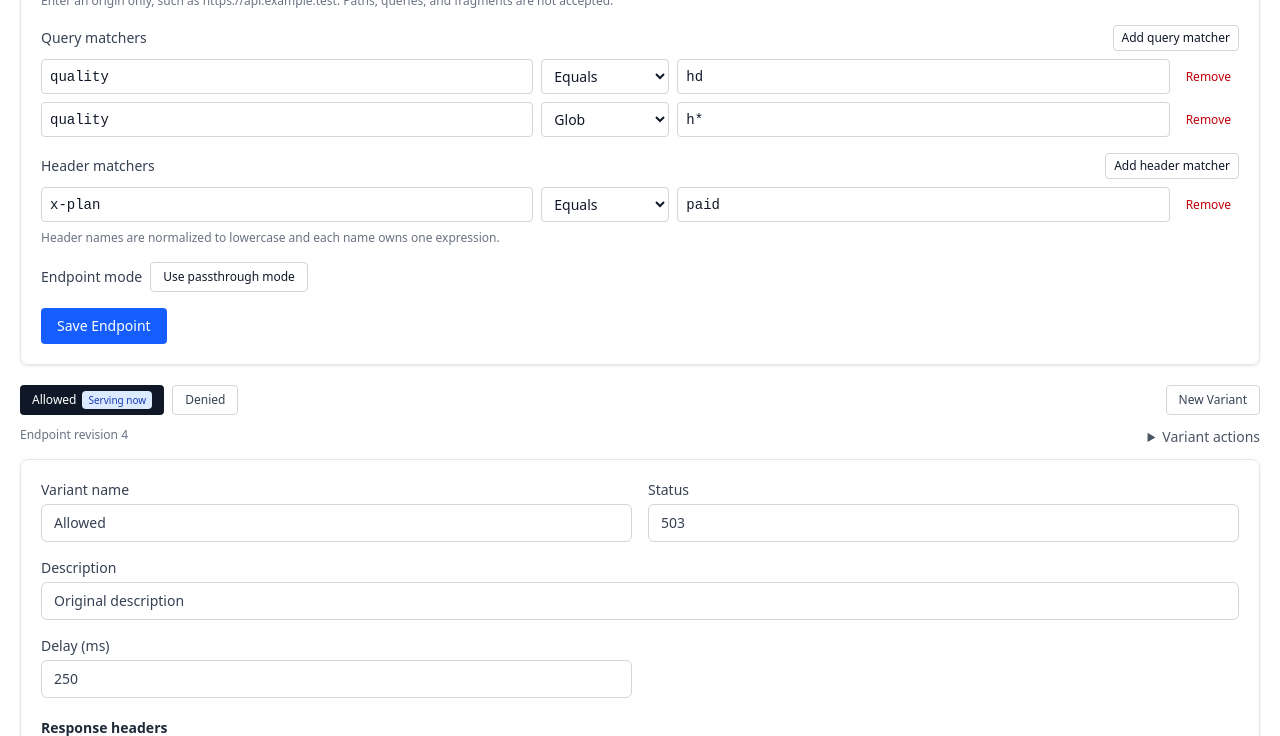
Test: EndpointEditor › keeps a committed Variant create closed and retries only its failed canonical reload
(page scrolled)
Click the button "New Variant" at (1213, 400), box [1166,385,1260,415]
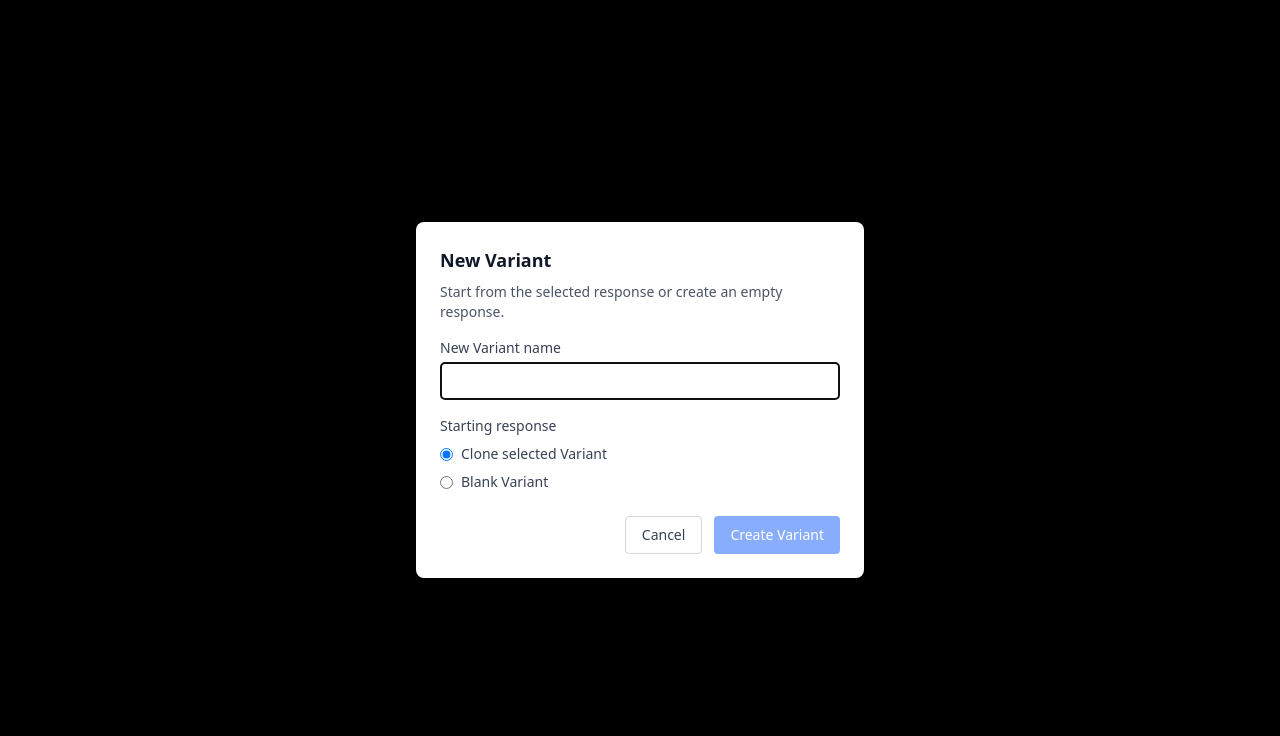
Type "Created" into the field labelled "New Variant name" at (640, 381), box [440,362,840,400]
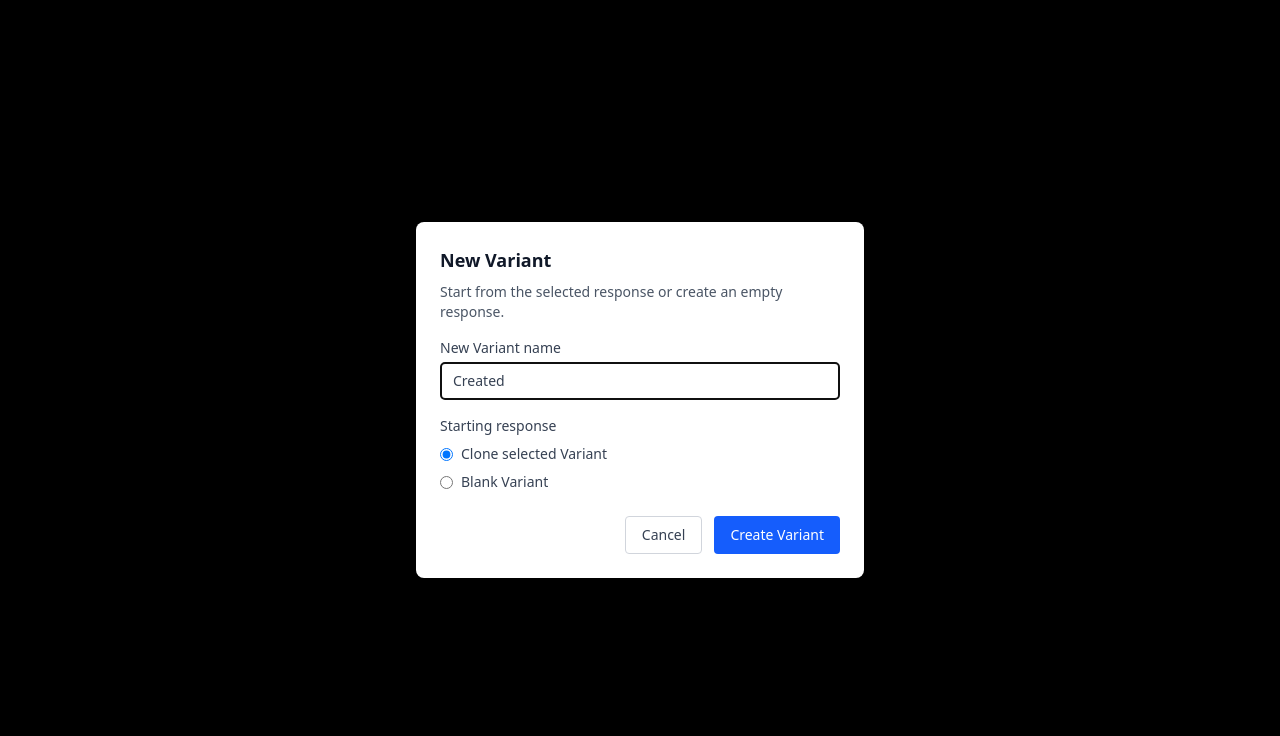
Click the button "Create Variant" at (777, 535), box [714,516,840,554]
(page scrolled)
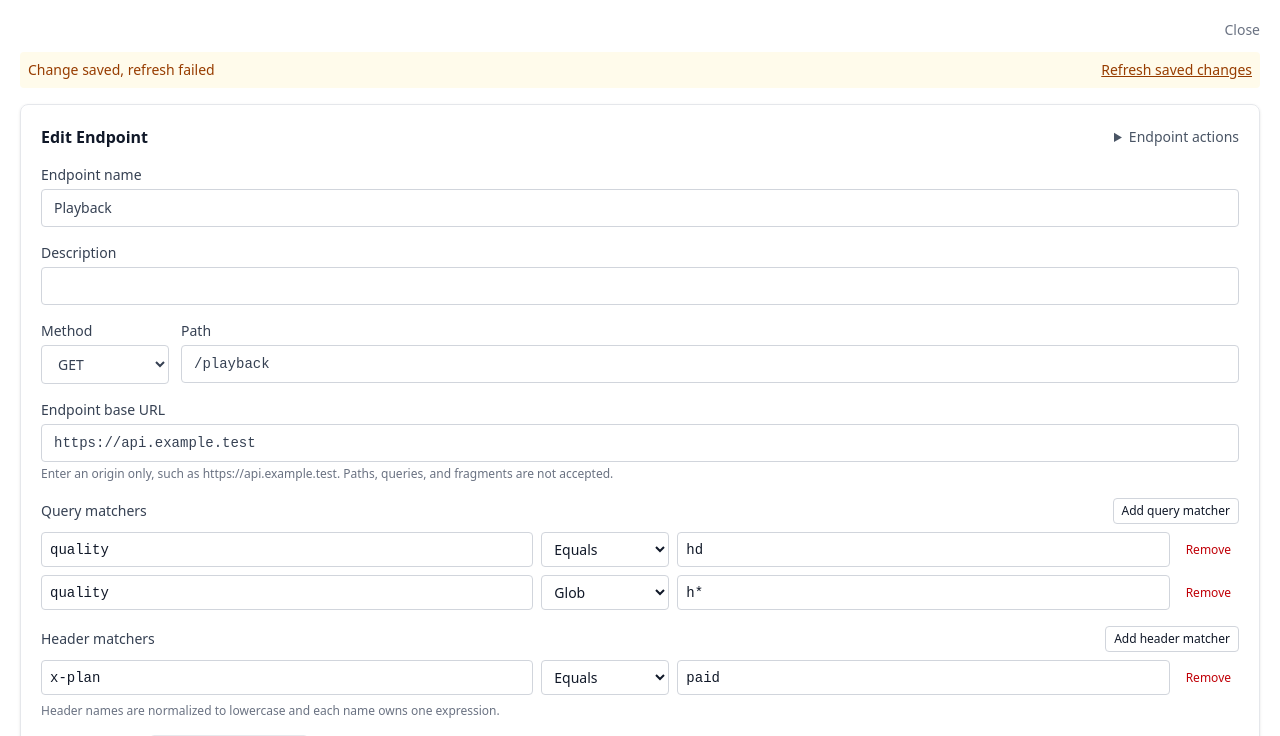
Expected: the text "Change saved, refresh failed" is shown, [28,60,215,80]
Expected: the button "New Variant" is gone
Expected: the button "Close" is enabled, [1224,20,1260,40]
Click the button "Refresh saved changes" at (1177, 70), box [1101,60,1252,80]
(page scrolled)
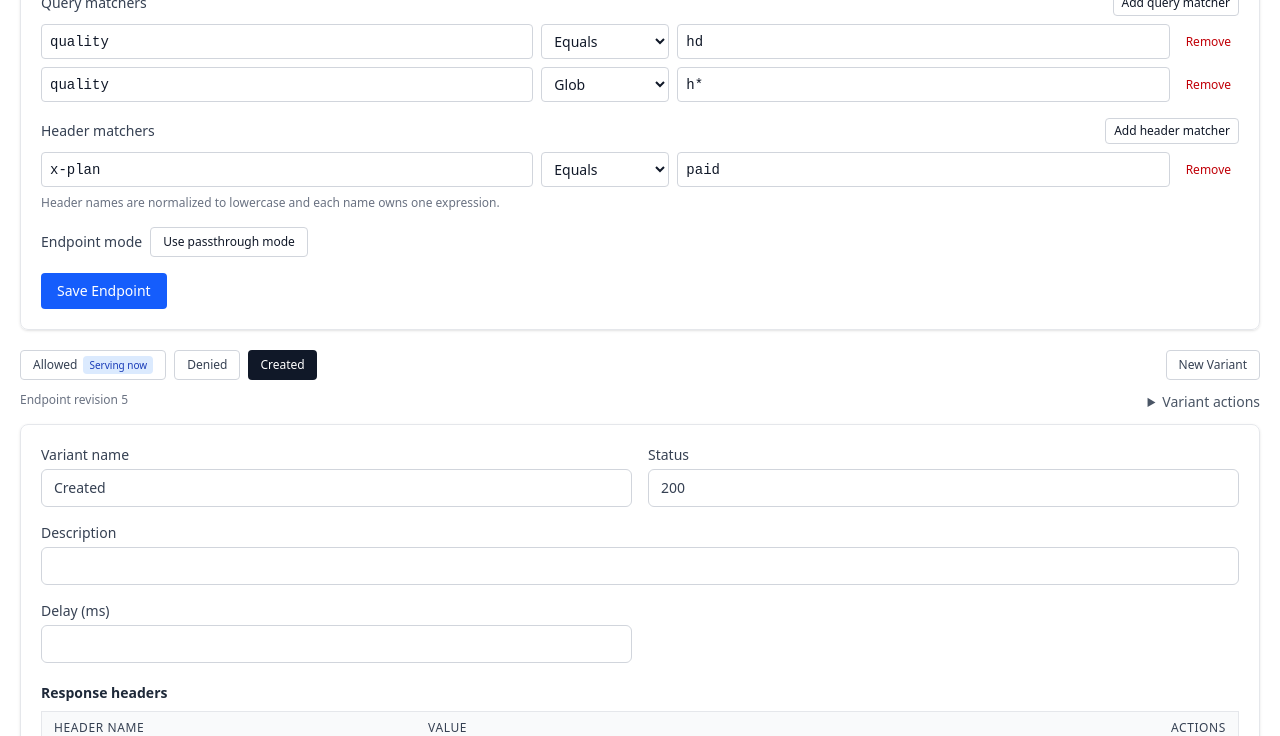
Expected: the text "Endpoint revision 5" is shown, [20,392,128,408]
Expected: the text "Change saved, refresh failed" is gone
